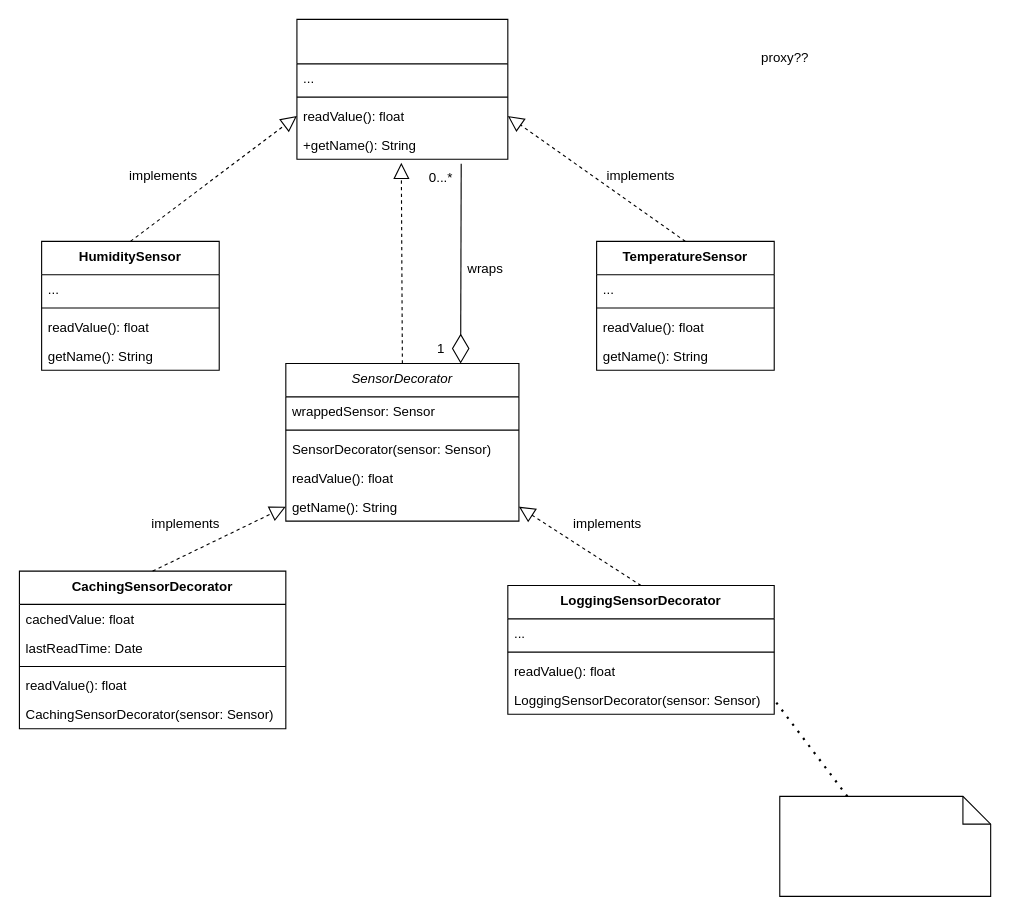
This 1010x916 diagram has some shape labels left out. The shapes that lost their labels are listed below. From the top down, each one's box as (x1, y1, x2, y2) in pixels, then its label:
(296, 18, 508, 159): «interface» Sensor
(779, 795, 991, 896): adds logging before or after calling the wrapped sensor's readValue()
